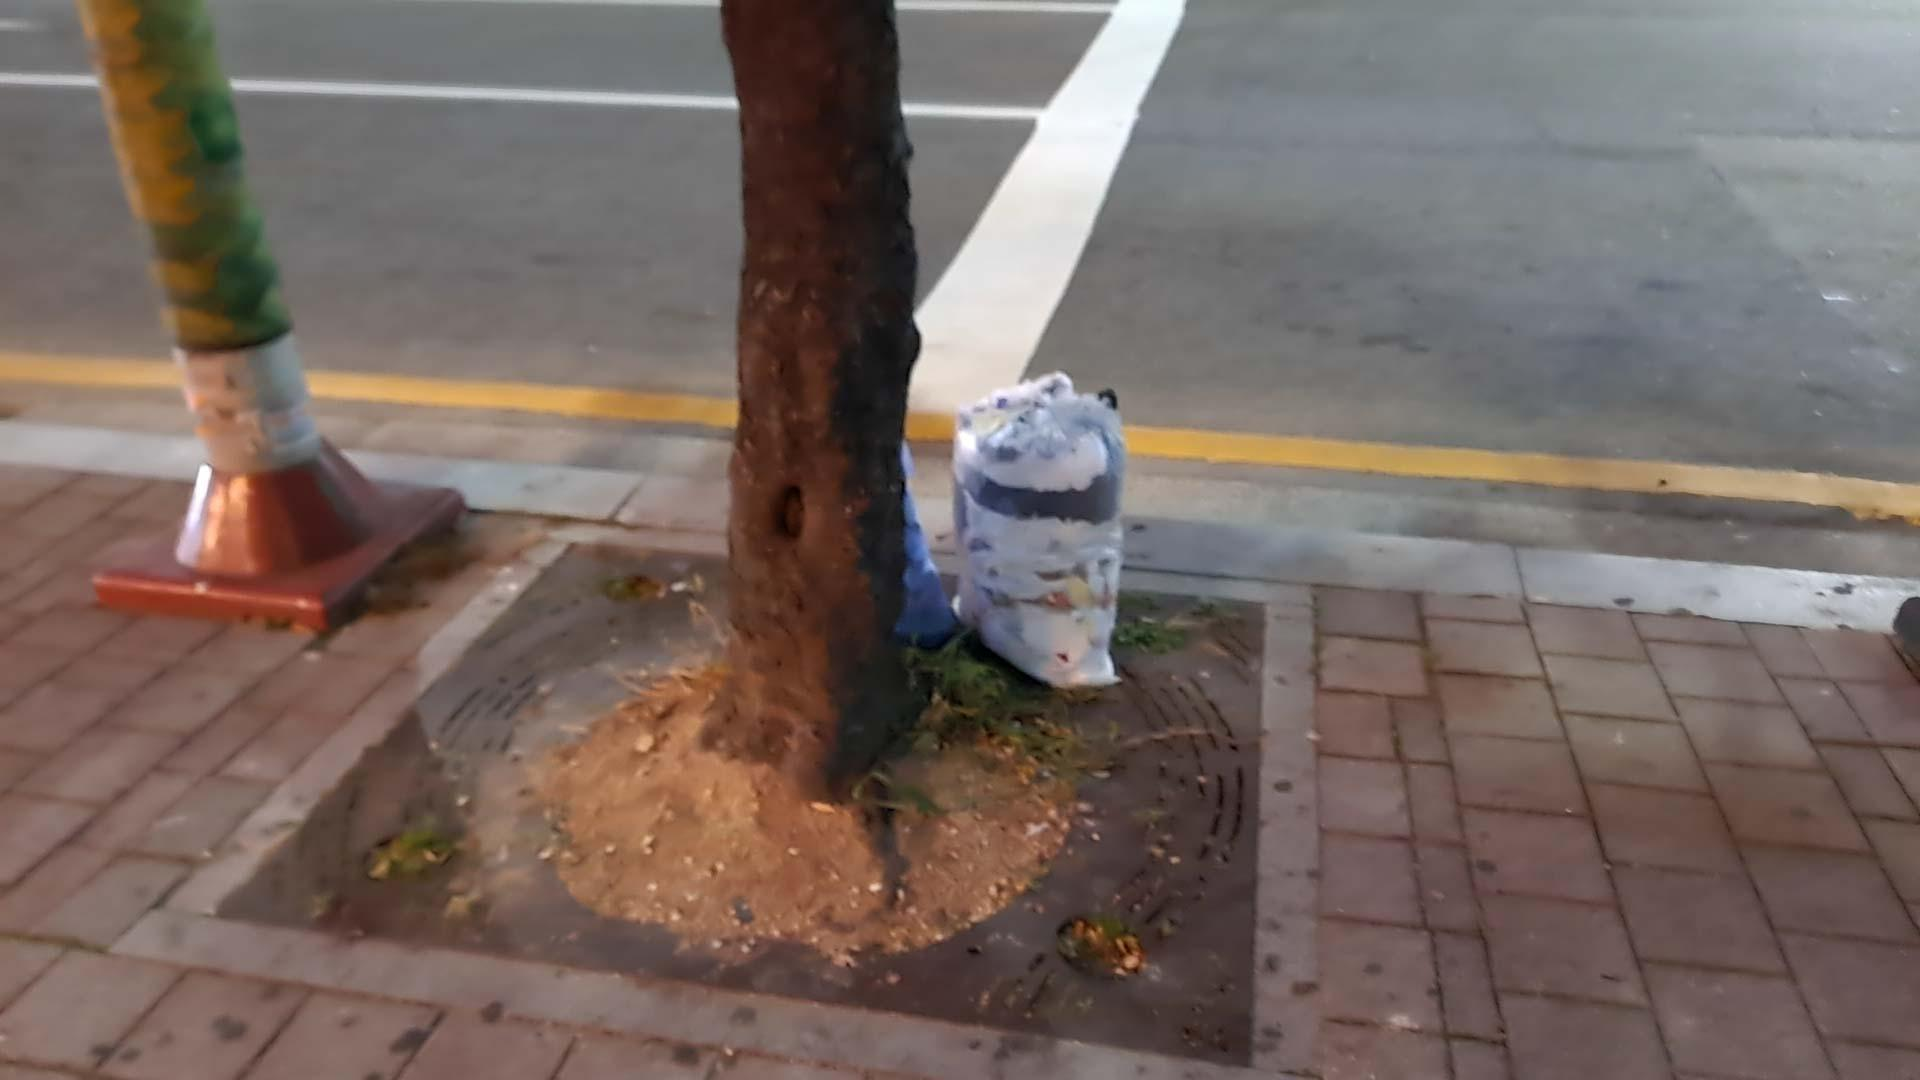white_bag: (945, 364, 1149, 702)
